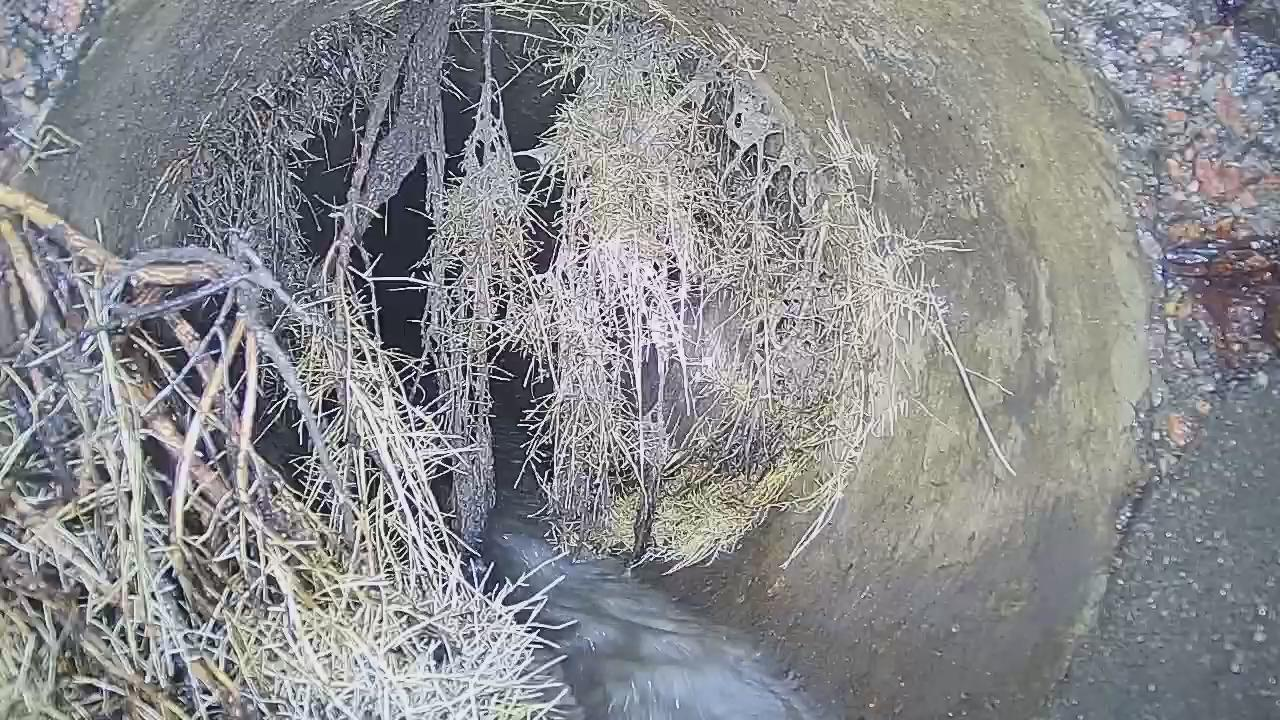SG: (0, 0, 1015, 719), (0, 0, 999, 719)
